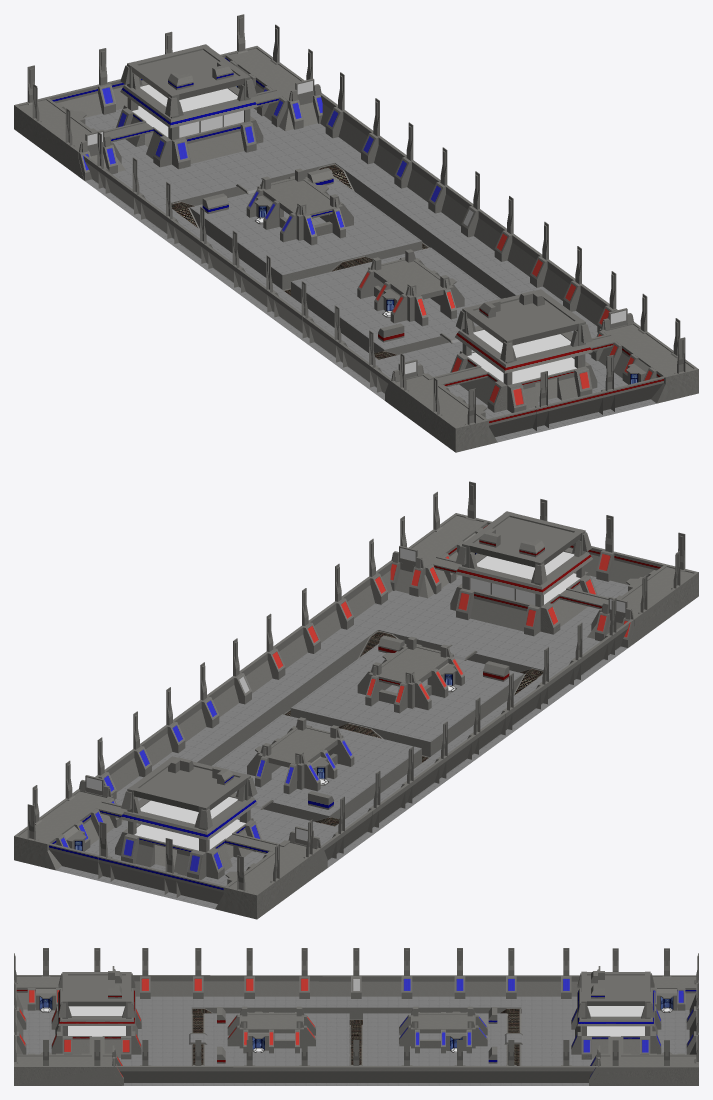
Rendered from Fortresses.fbx.
3 renders of one model, top to bottom at view 1: azimuth 30°, elevation 25°; view 2: azimuth 150°, elevation 25°; view 3: azimuth 270°, elevation 25°, orthographic. The views are drawn at different scales.
Visible parts, largest first — view 1: Fortresses_Mesh, Floor_Surfaces; view 2: Fortresses_Mesh, Floor_Surfaces; view 3: Fortresses_Mesh, Floor_Surfaces.
Boxes of the visible parts, box(x1,y1,x2,y2) form: Fortresses_Mesh: box(14, 14, 698, 452); Floor_Surfaces: box(14, 44, 698, 442); Fortresses_Mesh: box(14, 481, 698, 919); Floor_Surfaces: box(14, 511, 698, 909); Fortresses_Mesh: box(14, 948, 698, 1085); Floor_Surfaces: box(14, 971, 698, 1085).
Size of the model in its own units: 619 by 223 by 1946.
Materials: 6 (5 with a texture image).
